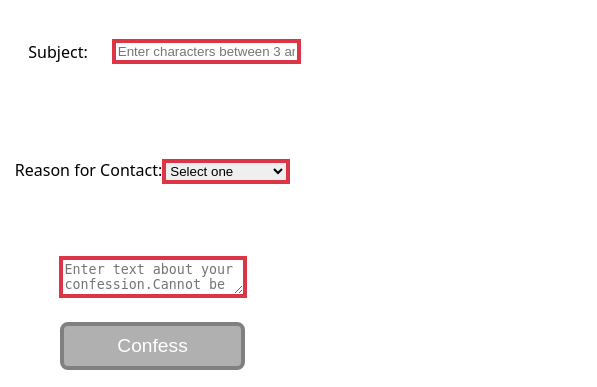
Test: Reason dropwdown validation error for not choosing an option
Select "Select one" in the dropdown. click: (226, 171)
box: [162,159,290,184]
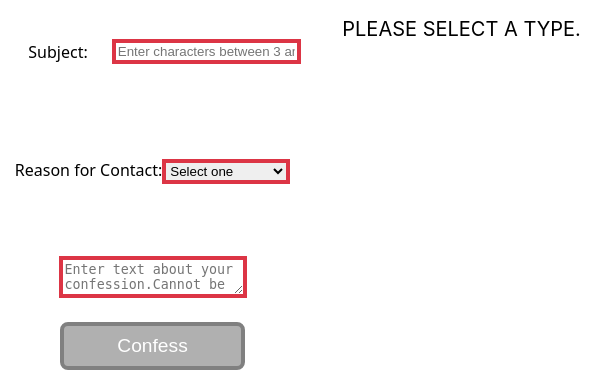
Now the text "Please select a type." is shown, box [342,17,581,41]
